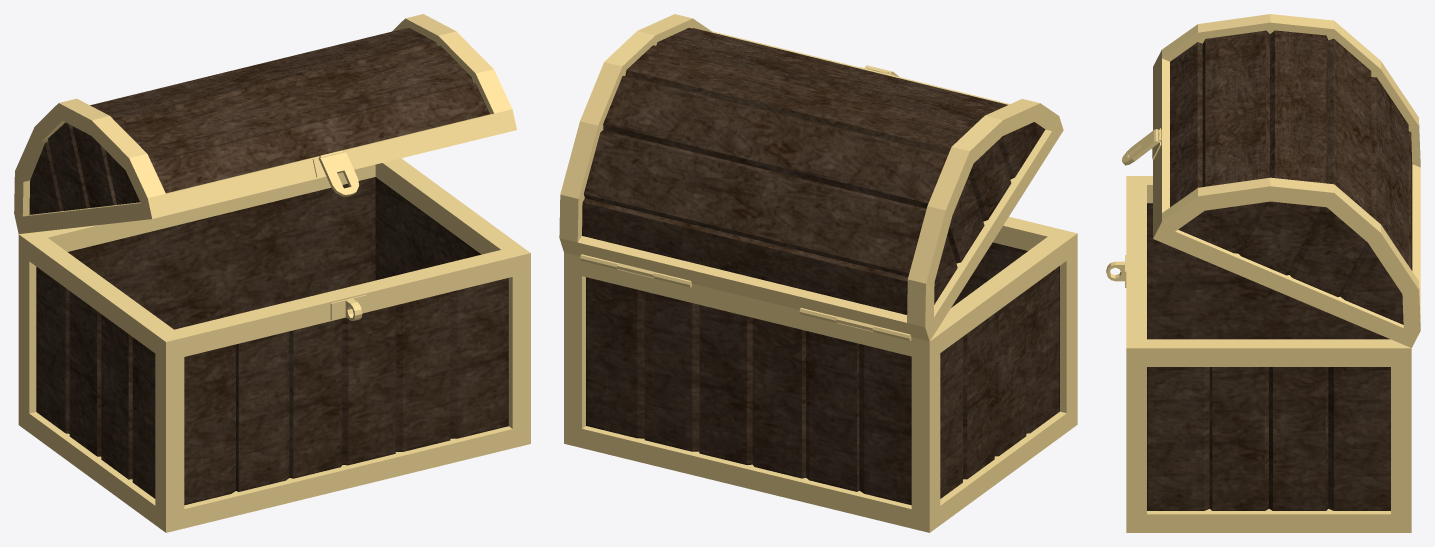
File: empty_treasure_chest.glb
3 renders of one model, left to right at view 1: azimuth 30°, elevation 25°; view 2: azimuth 150°, elevation 25°; view 3: azimuth 270°, elevation 25°, orthographic. The views are drawn at different scales.
Parts seen in each view (by area): view 1: Treasure Chest, Lid, Lock Flap; view 2: Lid, Treasure Chest; view 3: Treasure Chest, Lid, Lock Flap.
Boxes of the visible parts, x1=… form: Treasure Chest: x1=18, y1=158, x2=530, y2=532; Lid: x1=14, y1=14, x2=516, y2=233; Lock Flap: x1=318, y1=151, x2=359, y2=196; Lid: x1=559, y1=14, x2=1063, y2=341; Treasure Chest: x1=564, y1=216, x2=1077, y2=532; Treasure Chest: x1=1106, y1=176, x2=1411, y2=532; Lid: x1=1153, y1=14, x2=1420, y2=347; Lock Flap: x1=1122, y1=129, x2=1161, y2=165.
Size of the model in its own units: 2 by 1.88 by 1.54.
2 materials, 2 textured.
